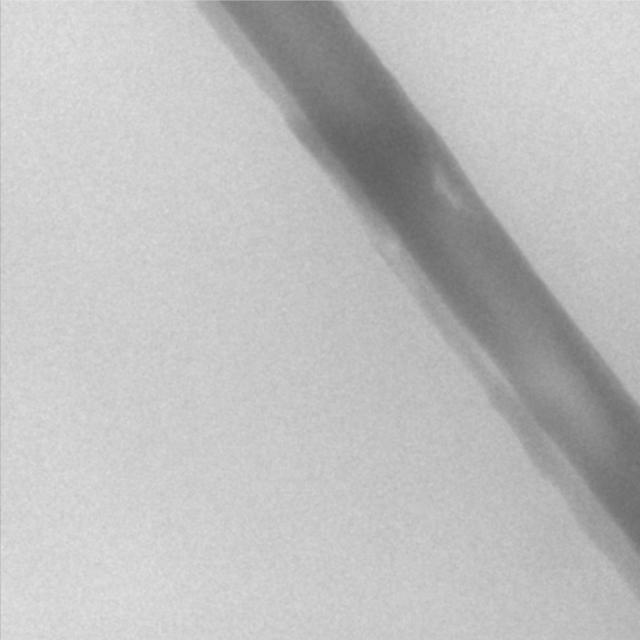unfused: (522, 318, 616, 453), (431, 160, 467, 219)
